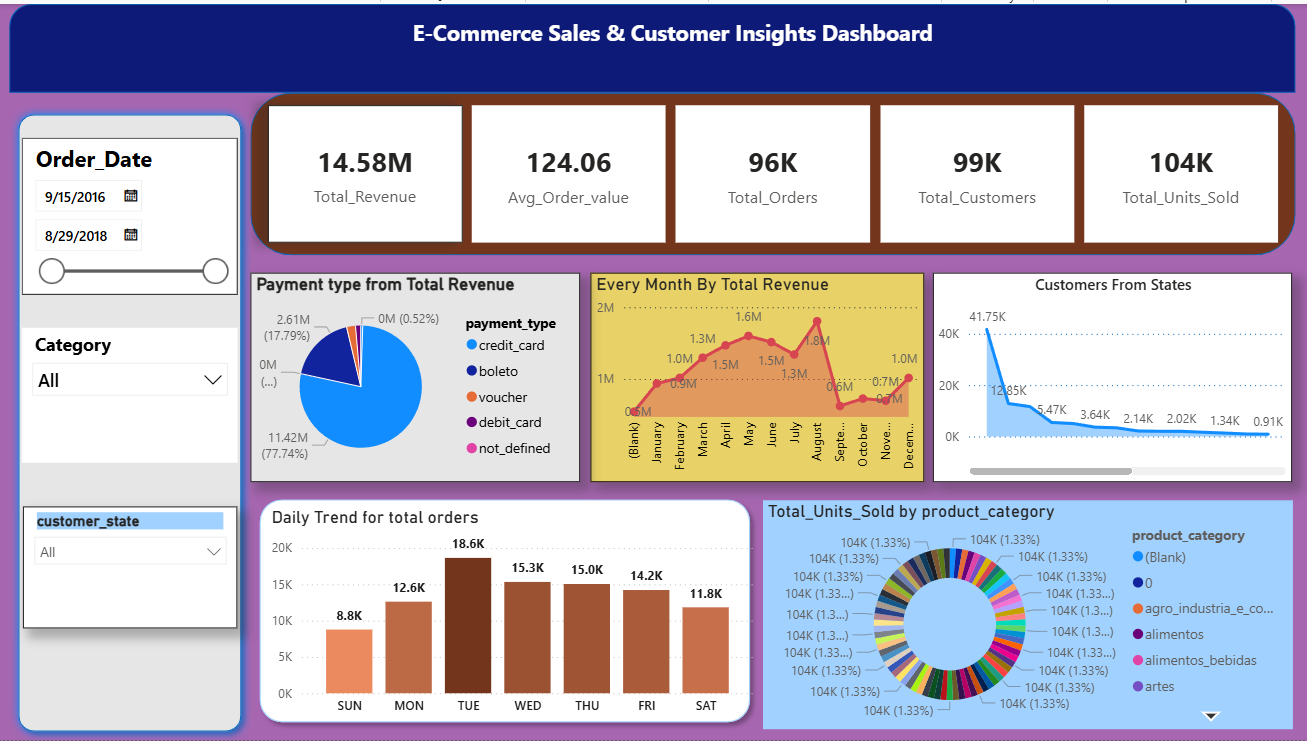

The dashboard page shown, as its layout file describes it:
{"tool":"powerbi","page":{"name":"Overview Dashboard","canvas":[1280,720],"ordinal":0},"visuals":[{"type":"lineChart","title":"Every Month By Total Revenue","fields":{"Y":["Payments.Total_Revenue"],"Category":["Orders.order_delivered_customer_date.Variation.Date Hierarchy.Month"]},"box":[579.1,263.5,326.6,204.5],"z":0},{"type":"pieChart","title":"Payment type from Total Revenue","fields":{"Category":["Payments.payment_type"],"Y":["Sum(Payments.payment_sequential)","Payments.Total_Revenue"]},"box":[247,263.5,322.5,204.5],"z":1000},{"type":"shape","box":[247,86.8,1022.3,159],"z":1500},{"type":"textbox","box":[24.7,0,1139.5,74.1],"z":2000},{"type":"card","fields":{"Values":["Payments.Total_Revenue"]},"box":[264.1,99,190.8,134.5],"z":4000},{"type":"card","fields":{"Values":["Orders.Avg_Order_value"]},"box":[463.5,99,189.5,134.5],"z":5000},{"type":"card","fields":{"Values":["Orders.Total_Orders"]},"box":[662.8,99,190.8,134.5],"z":6000},{"type":"card","fields":{"Values":["Payments.Total_Units_Sold"]},"box":[1062.6,99,189.5,134.5],"z":7000},{"type":"shape","box":[11,0,1258.3,86.8],"z":8000},{"type":"card","fields":{"Values":["Customers.Total_Customers"]},"box":[863.3,99,189.5,134.5],"z":9000},{"type":"shape","box":[247,475.7,497.7,236],"z":10000},{"type":"textbox","box":[105.2,8.6,823,47.7],"z":11000},{"type":"columnChart","title":"Daily Trend for total orders","fields":{"Category":["Orders.Order Day"],"Y":["Orders.Total_Orders"]},"box":[263.5,491.3,481.6,212.7],"z":12000},{"type":"pieChart","fields":{"Category":["Products.product_category"],"Y":["Payments.Total_Units_Sold"]},"box":[747.9,485.8,518.7,223.7],"z":13000},{"type":"shape","box":[11,98.8,236,621.6],"z":13500},{"type":"slicer","fields":{"Values":["Orders.Order_Date"]},"box":[23.3,130.4,211.3,153.7],"z":14000},{"type":"slicer","fields":{"Values":["Products.product_category"]},"box":[23.3,317,211.3,131.7],"z":14001},{"type":"slicer","fields":{"Values":["Customers.state"]},"box":[24.7,491.3,209.9,119.4],"z":14002},{"type":"stackedAreaChart","title":" Customers From States","fields":{"Category":["Customers.customer_state"],"Y":["CountNonNull(Customers.customer_id)"]},"box":[915.3,263.5,351.3,204.5],"z":14003}]}

Visuals, with their boxes in screenshot pixels (x1, y1, x2, y2), scaled from the page's 1280x720 canvas onto the 1307x741 screenshot:
"Every Month By Total Revenue" lineChart: box(591, 271, 925, 482)
"Payment type from Total Revenue" pieChart: box(252, 271, 582, 482)
shape: box(252, 89, 1296, 253)
textbox: box(25, 0, 1189, 76)
card - Payments.Total_Revenue: box(270, 102, 464, 240)
card - Orders.Avg_Order_value: box(473, 102, 667, 240)
card - Orders.Total_Orders: box(677, 102, 872, 240)
card - Payments.Total_Units_Sold: box(1085, 102, 1279, 240)
shape: box(11, 0, 1296, 89)
card - Customers.Total_Customers: box(882, 102, 1075, 240)
shape: box(252, 490, 760, 732)
textbox: box(107, 9, 948, 58)
"Daily Trend for total orders" columnChart: box(269, 506, 761, 725)
pieChart - Products.product_category x Payments.Total_Units_Sold: box(764, 500, 1293, 730)
shape: box(11, 102, 252, 740)
slicer - Orders.Order_Date: box(24, 134, 240, 292)
slicer - Products.product_category: box(24, 326, 240, 462)
slicer - Customers.state: box(25, 506, 240, 629)
" Customers From States" stackedAreaChart: box(935, 271, 1293, 482)
